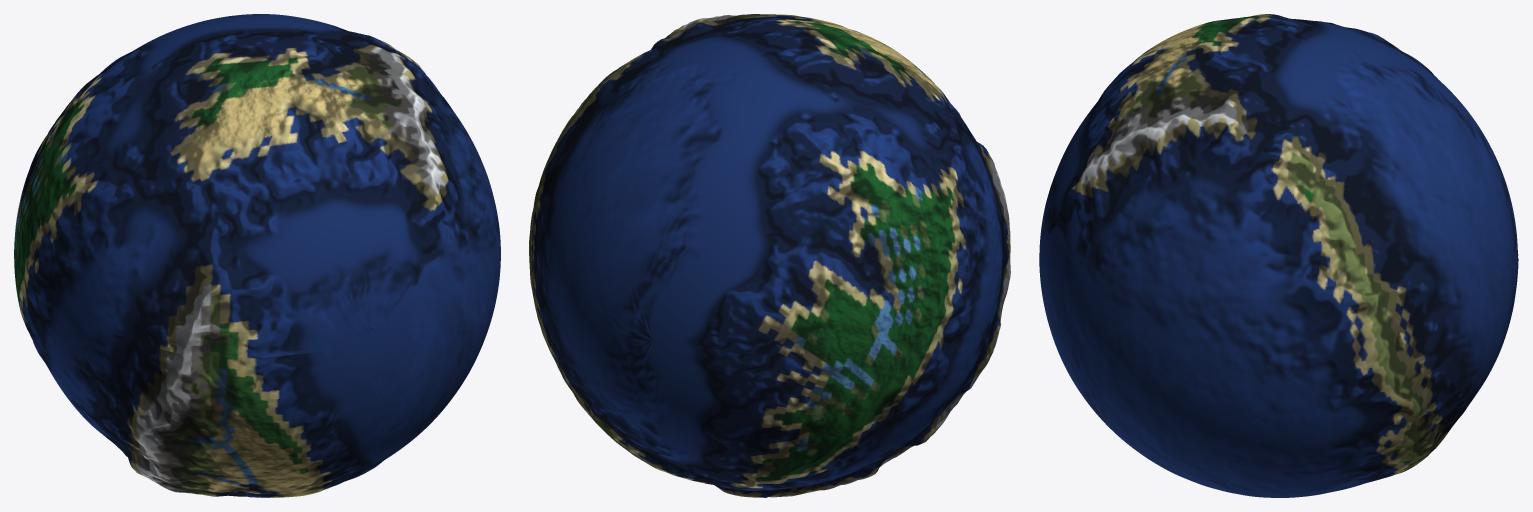
The model's file is seed-7-continent.glb.
3 renders of one model, left to right at view 1: azimuth 30°, elevation 25°; view 2: azimuth 150°, elevation 25°; view 3: azimuth 270°, elevation 25°, orthographic. The views are drawn at different scales.
Visible parts, largest first — view 1: world; view 2: world; view 3: world.
Part boxes in pixels (box(x1,y1,x2,y2)): world: box(14, 14, 500, 497); world: box(529, 14, 1010, 497); world: box(1039, 14, 1518, 497).
Bounding box in the file's own units: 2.02 × 2.05 × 2.01.
Materials: 1 (1 with a texture image).
